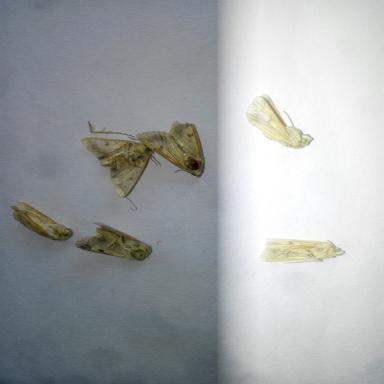abw: (73, 119, 157, 215), (238, 92, 324, 156), (129, 117, 212, 182), (67, 216, 159, 264), (4, 194, 80, 245), (255, 231, 353, 270)
